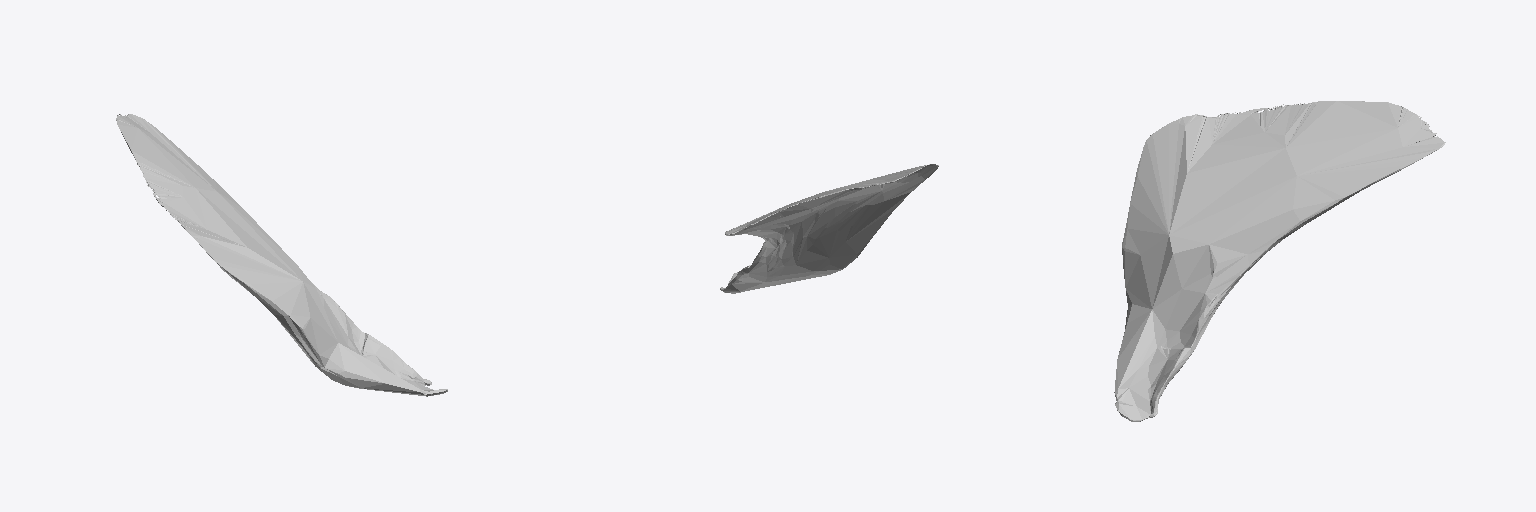
File: left subscapularis.obj
3 renders of one model, left to right at view 1: azimuth 30°, elevation 25°; view 2: azimuth 150°, elevation 25°; view 3: azimuth 270°, elevation 25°, orthographic.
Visible parts, largest first — view 1: grp1; view 2: grp1; view 3: grp1.
Part boxes in pixels (left/top/right/bottom): grp1: left=116, top=114, right=447, bottom=396; grp1: left=720, top=164, right=938, bottom=293; grp1: left=1114, top=101, right=1445, bottom=421.
Size of the model in its own units: 103 by 97.2 by 130.